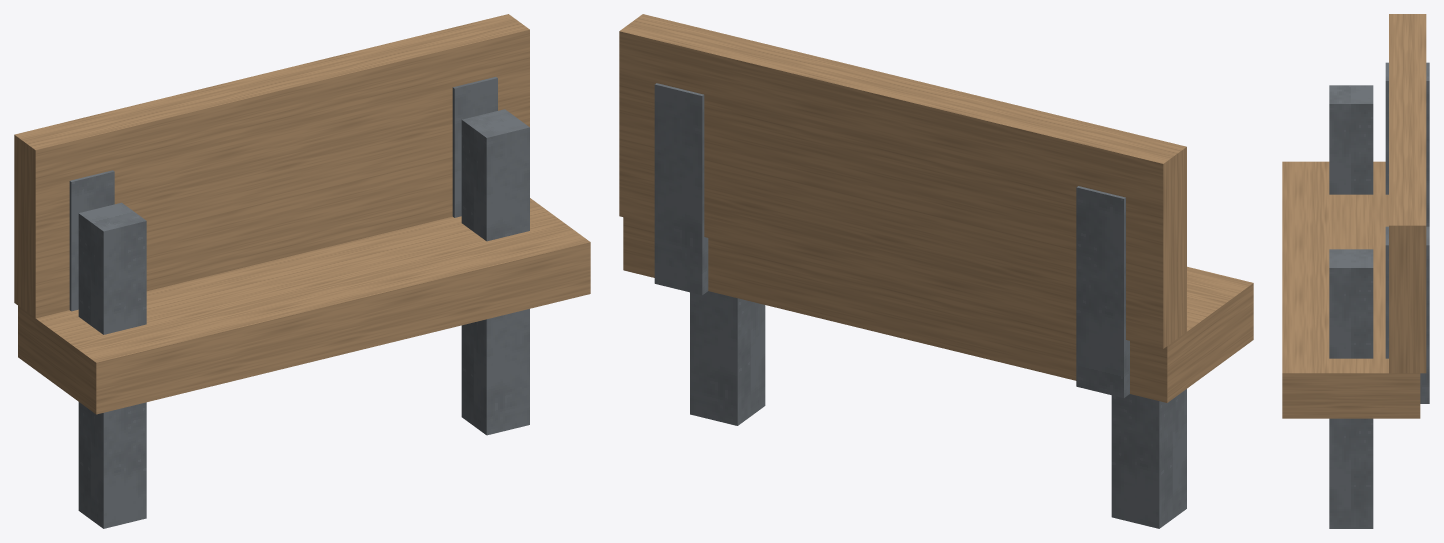
Rendered from benchOutdoor.glb.
The picture shows the model from 3 angles, left to right: view 1: azimuth 30°, elevation 25°; view 2: azimuth 150°, elevation 25°; view 3: azimuth 270°, elevation 25°; orthographic projection. The views are drawn at different scales.
Parts seen in each view (by area): view 1: benchOutdoor; view 2: benchOutdoor; view 3: benchOutdoor.
Boxes of the visible parts, box(x1,y1,x2,y2) form: benchOutdoor: box(14, 14, 590, 528); benchOutdoor: box(619, 14, 1253, 528); benchOutdoor: box(1282, 14, 1429, 528).
Size of the model in its own units: 1.6 by 1.12 by 0.47.
Materials: 2 (2 with a texture image).
